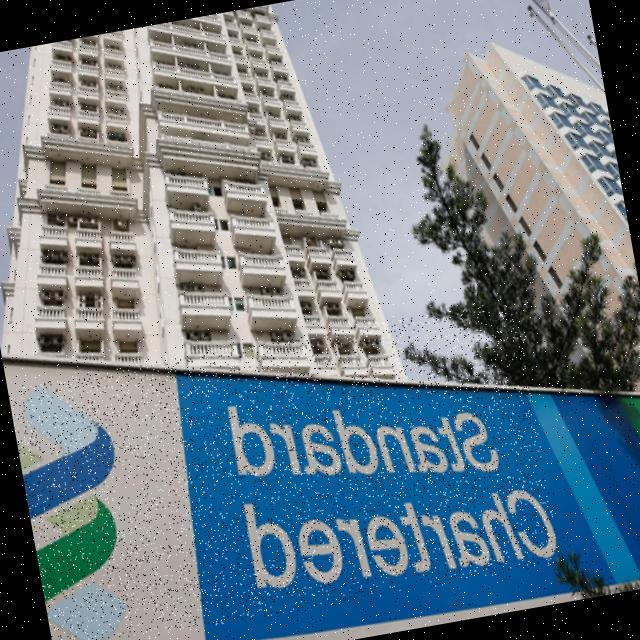Standard Chartered: (7, 298, 561, 640)
